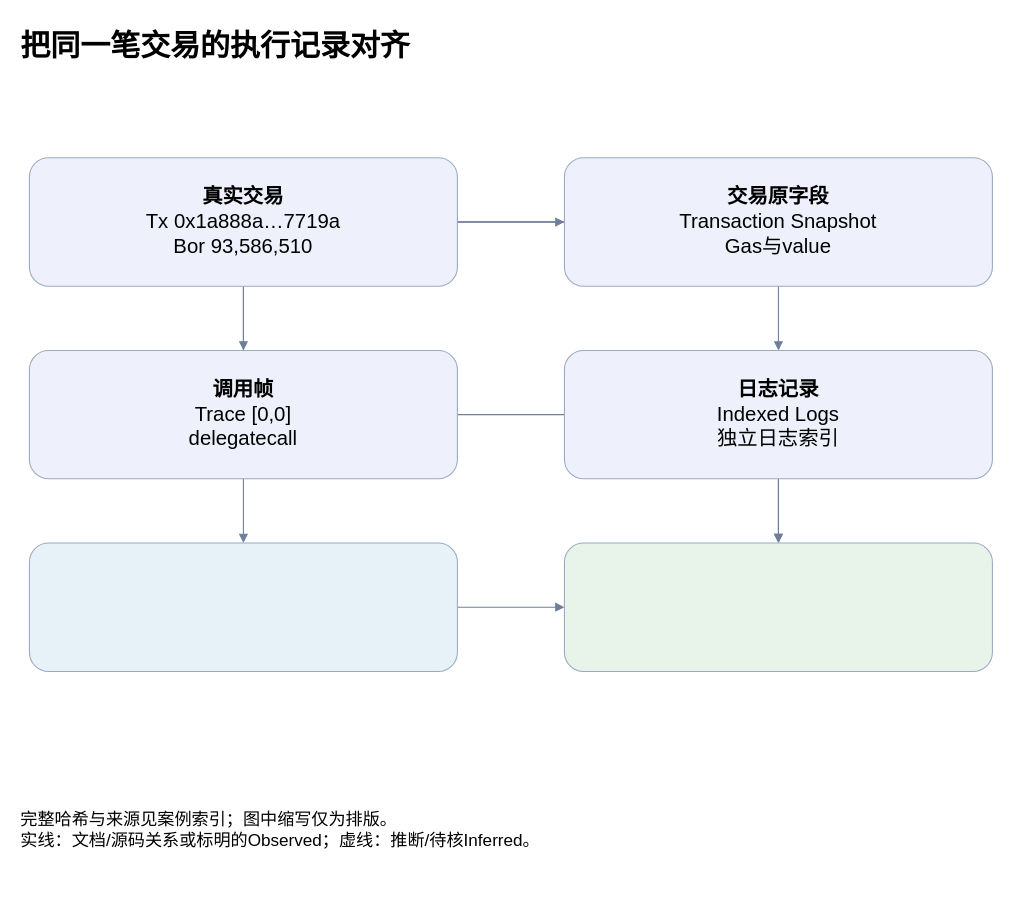
The diagram is 1021 pixels wide and 908 high, and some of its shapes have lost their labels. Each missing label, with the box of its shape:
交叉核对 Dune + Explorer 不冒充本地重放: (563, 542, 992, 671)
整数费用 91,672 × 277,972,801,743 最小单位→POL: (28, 542, 457, 671)
